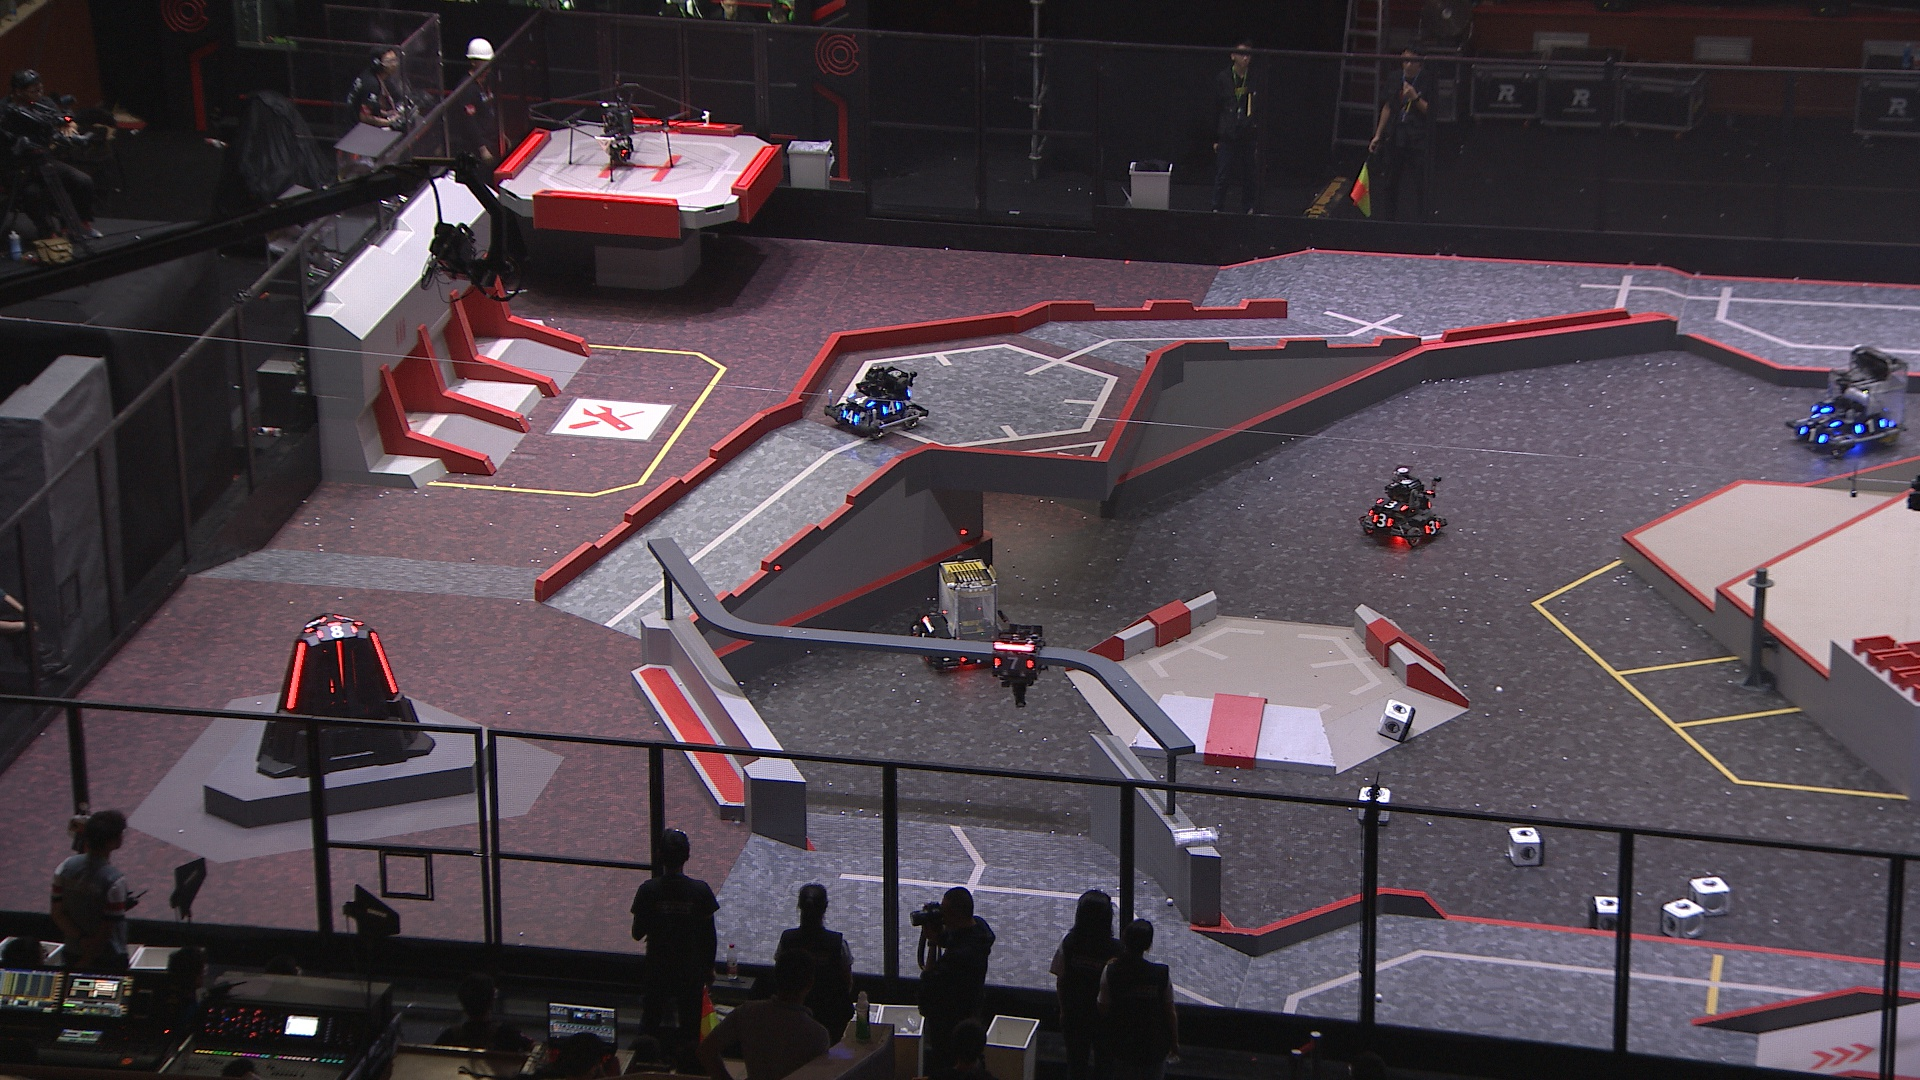armor: (278, 638, 309, 713), (367, 628, 398, 698), (311, 621, 359, 642), (1371, 495, 1414, 513), (332, 638, 348, 687), (993, 654, 1031, 674), (1799, 422, 1826, 446), (1807, 407, 1840, 427), (847, 389, 876, 411), (1854, 415, 1888, 434), (1370, 510, 1396, 531), (1423, 516, 1443, 537), (880, 398, 902, 417), (335, 613, 363, 628), (840, 406, 858, 427), (302, 617, 323, 636)
base: (253, 608, 438, 782)
car: (1783, 342, 1911, 458), (915, 556, 1019, 675), (820, 363, 931, 443), (1360, 462, 1449, 553)
watcher: (986, 621, 1050, 711)
